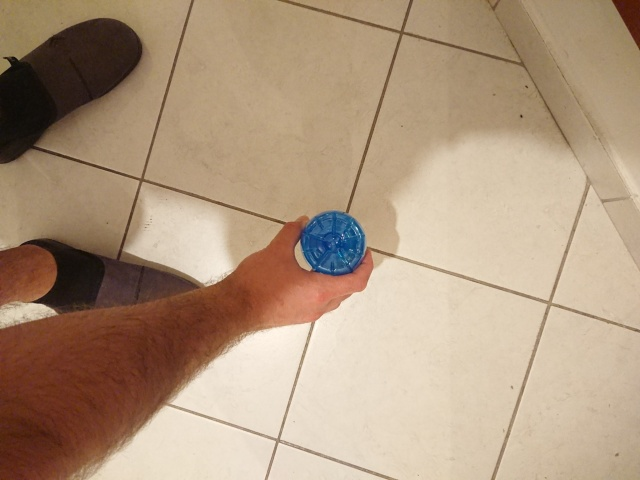Vindi Iso Sport Forest Strawberries 500mL: (299, 209, 367, 278)
